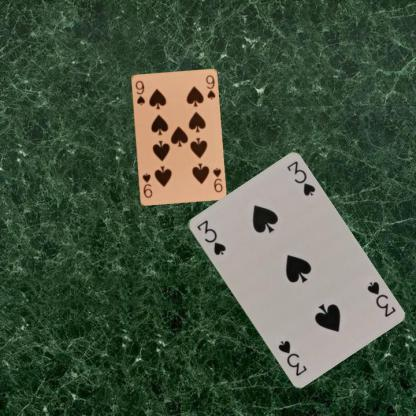3s: (194, 217, 228, 257), (364, 278, 397, 318)
9s: (210, 165, 224, 194), (133, 78, 145, 106)
